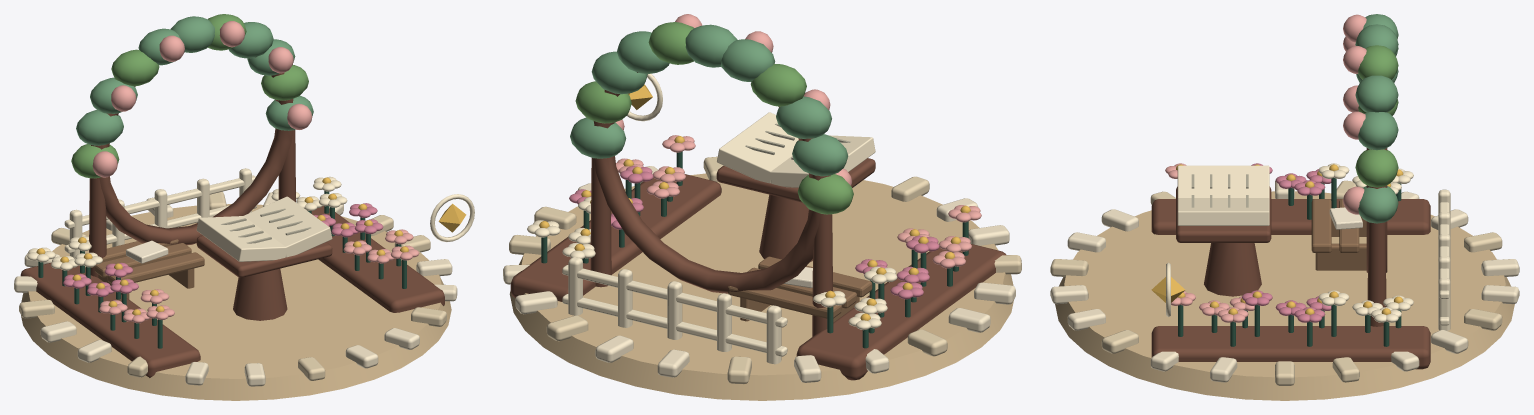
File: journal.glb
3 views of the same model, side by side, from view 1: azimuth 30°, elevation 25°; view 2: azimuth 150°, elevation 25°; view 3: azimuth 270°, elevation 25° (orthographic). The views are drawn at different scales.
Visible parts, largest first — view 1: building-journal, landmark-journal, Blender_detail_ReadingBench, treasure-journal, Blender_detail_ReadingBench.001, Blender_detail_PocketBook, Blender_detail_ReadingBench.002; view 2: building-journal, landmark-journal, Blender_detail_ReadingBench.002, Blender_detail_ReadingBench, treasure-journal, Blender_detail_ReadingBench.001; view 3: landmark-journal, building-journal, Blender_detail_ReadingBench, Blender_detail_BenchLeg.001, treasure-journal, Blender_detail_PocketBook, Blender_detail_ReadingBench.001.
Boxes of the visible parts, bbox=[...] form: building-journal: bbox=[20, 14, 444, 377]; landmark-journal: bbox=[14, 191, 457, 400]; Blender_detail_ReadingBench: bbox=[107, 252, 204, 283]; treasure-journal: bbox=[430, 194, 474, 242]; Blender_detail_ReadingBench.001: bbox=[94, 243, 191, 277]; Blender_detail_PocketBook: bbox=[126, 240, 168, 263]; Blender_detail_ReadingBench.002: bbox=[85, 239, 178, 267]; building-journal: bbox=[510, 14, 1006, 380]; landmark-journal: bbox=[503, 156, 1021, 400]; Blender_detail_ReadingBench.002: bbox=[728, 286, 841, 318]; Blender_detail_ReadingBench: bbox=[758, 256, 872, 297]; treasure-journal: bbox=[627, 73, 662, 121]; Blender_detail_ReadingBench.001: bbox=[747, 267, 856, 308]; landmark-journal: bbox=[1050, 178, 1519, 400]; building-journal: bbox=[1151, 14, 1450, 369]; Blender_detail_ReadingBench: bbox=[1311, 199, 1331, 252]; Blender_detail_BenchLeg.001: bbox=[1315, 243, 1366, 270]; treasure-journal: bbox=[1151, 262, 1185, 317]; Blender_detail_PocketBook: bbox=[1329, 207, 1362, 229]; Blender_detail_ReadingBench.001: bbox=[1339, 199, 1359, 252].
Size of the model in its own units: 1.54 by 0.9946 by 1.53.
